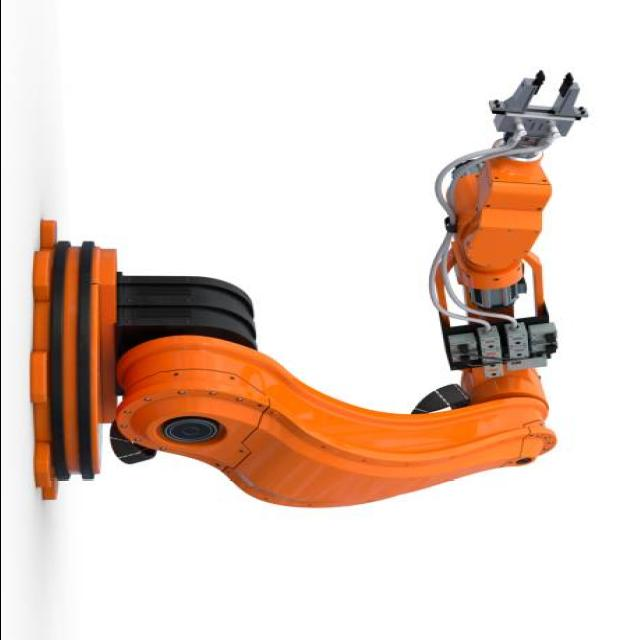Robotic-arm: (26, 64, 610, 519)
